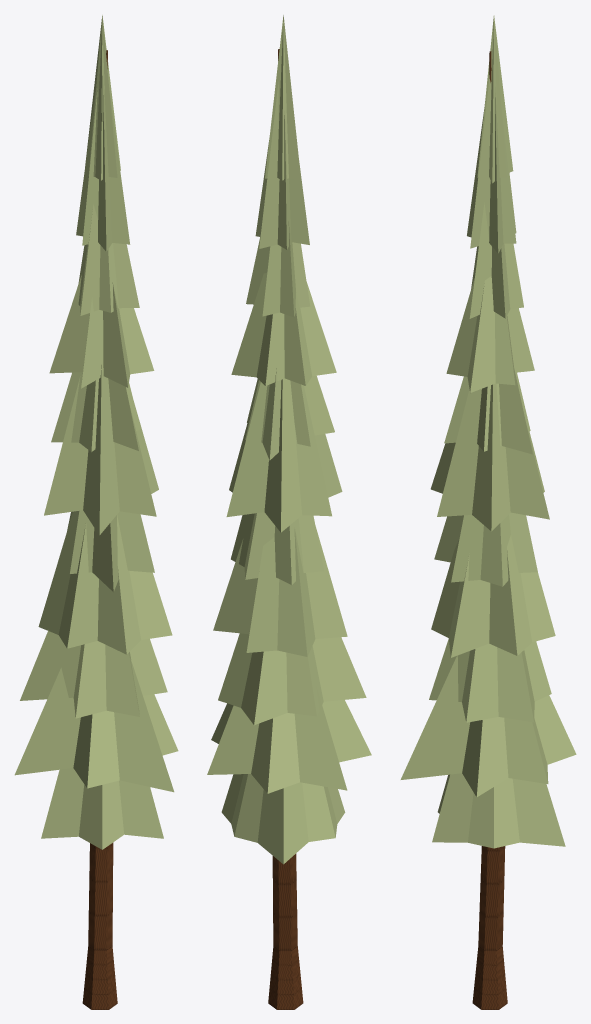
File: dense-temperate-forest-flora-larch-mature-817dca8d__28354.glb
3 renders of one model, left to right at view 1: azimuth 30°, elevation 25°; view 2: azimuth 210°, elevation 25°; view 3: azimuth 270°, elevation 25°, orthographic.
Parts seen in each view (by area): view 1: larch-mature; view 2: larch-mature; view 3: larch-mature.
Boxes of the visible parts, x1,y1,x2,y2 form: larch-mature: (14,15,178,1009); larch-mature: (207,15,371,1009); larch-mature: (400,15,576,1009).
Bounding box in the file's own units: 3.2 × 20.75 × 3.34.
2 materials, 1 textured.
